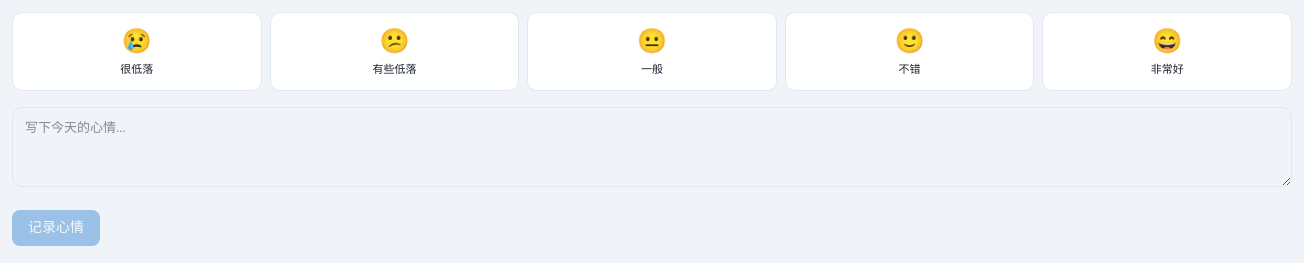
Test: Feature 4: Mood — 心情日记快速记录 › 场景 4.4: 选择心情后按钮变为可用 › 点击心情按钮后"记录心情"按钮应变为可用
Expected: the button "记录心情" is disabled, [12,210,100,246]
Click the button "🙂 不错" at (910, 51), box [785,12,1034,90]
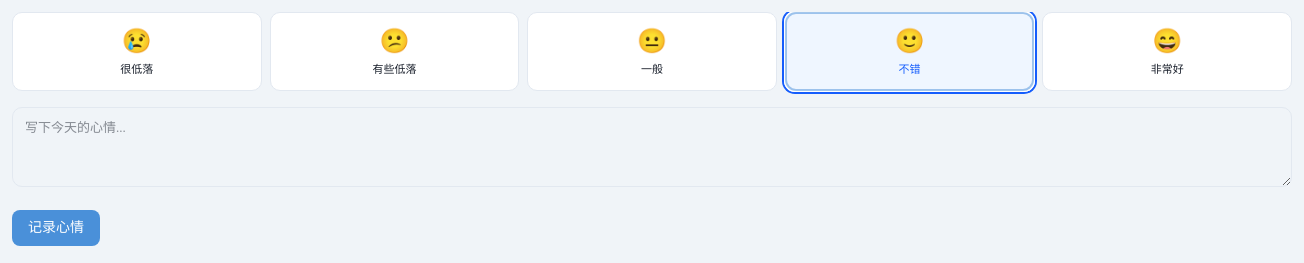
Expected: the button "记录心情" is enabled, [12,210,100,246]
